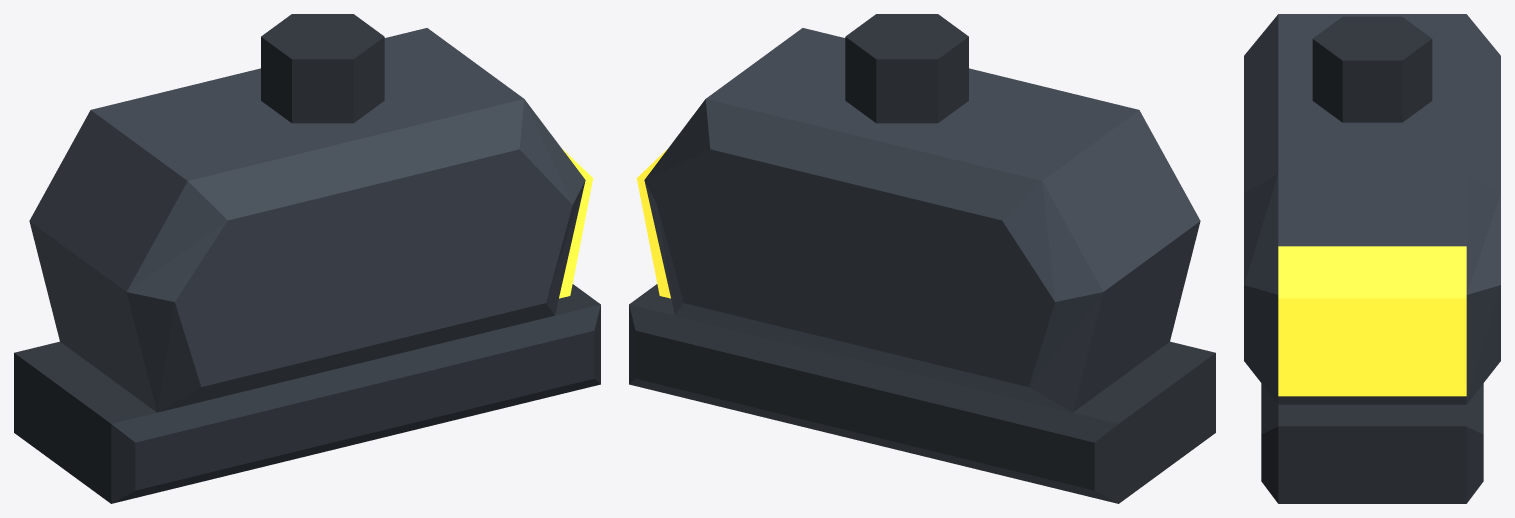
File: sight_red_dot.glb
3 renders of one model, left to right at view 1: azimuth 30°, elevation 25°; view 2: azimuth 150°, elevation 25°; view 3: azimuth 270°, elevation 25°, orthographic. The views are drawn at different scales.
Parts seen in each view (by area): view 1: sight_red_dot; view 2: sight_red_dot; view 3: sight_red_dot.
Boxes of the visible parts, bbox=[...] form: sight_red_dot: bbox=[14, 14, 600, 503]; sight_red_dot: bbox=[629, 14, 1215, 503]; sight_red_dot: bbox=[1244, 14, 1500, 503].
Bounding box in the file's own units: 0.064 × 0.046 × 0.03.
